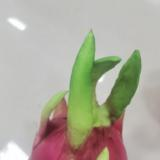pitaya: (29, 83, 130, 160)
